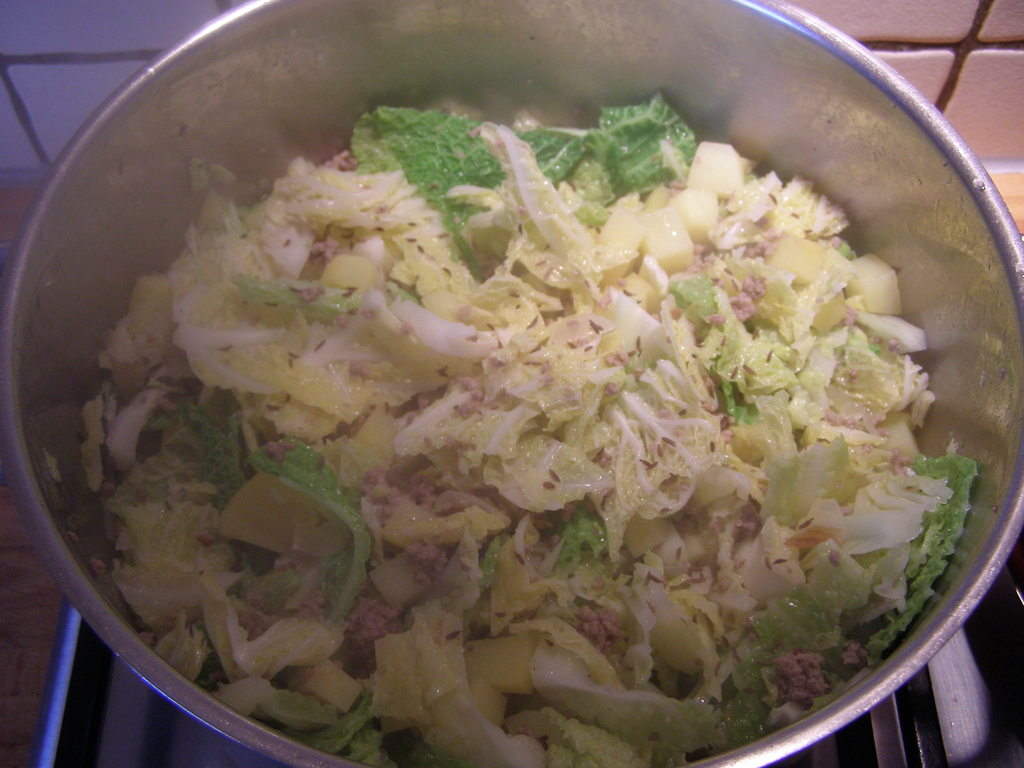Cabbage: (41, 89, 980, 768)
